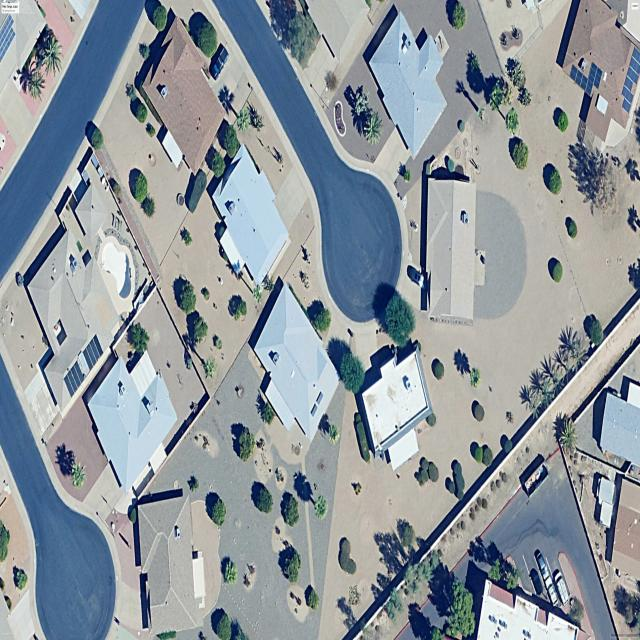Home: (0, 0, 91, 189), (28, 230, 118, 408), (254, 286, 339, 441), (142, 18, 224, 172), (88, 352, 176, 492), (561, 0, 640, 147), (370, 12, 447, 157), (212, 144, 289, 284), (357, 342, 433, 471), (138, 494, 206, 635), (426, 179, 476, 324), (477, 579, 588, 640), (599, 380, 640, 465), (611, 480, 640, 580)
